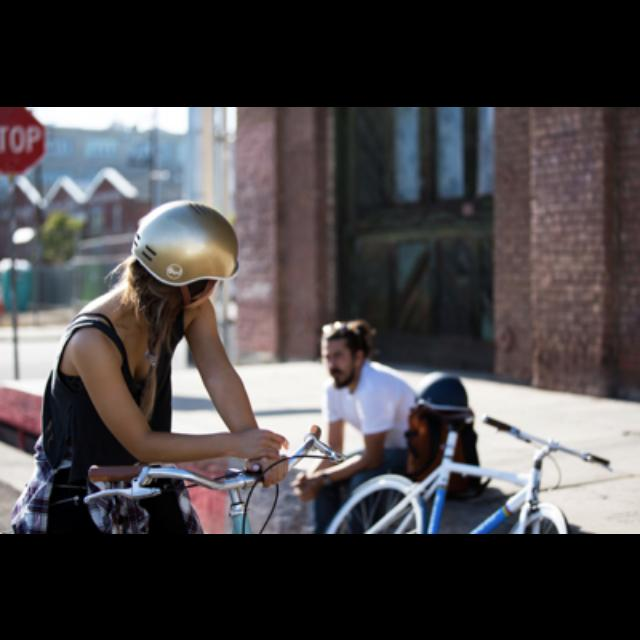With Helmet: (136, 188, 244, 316)
